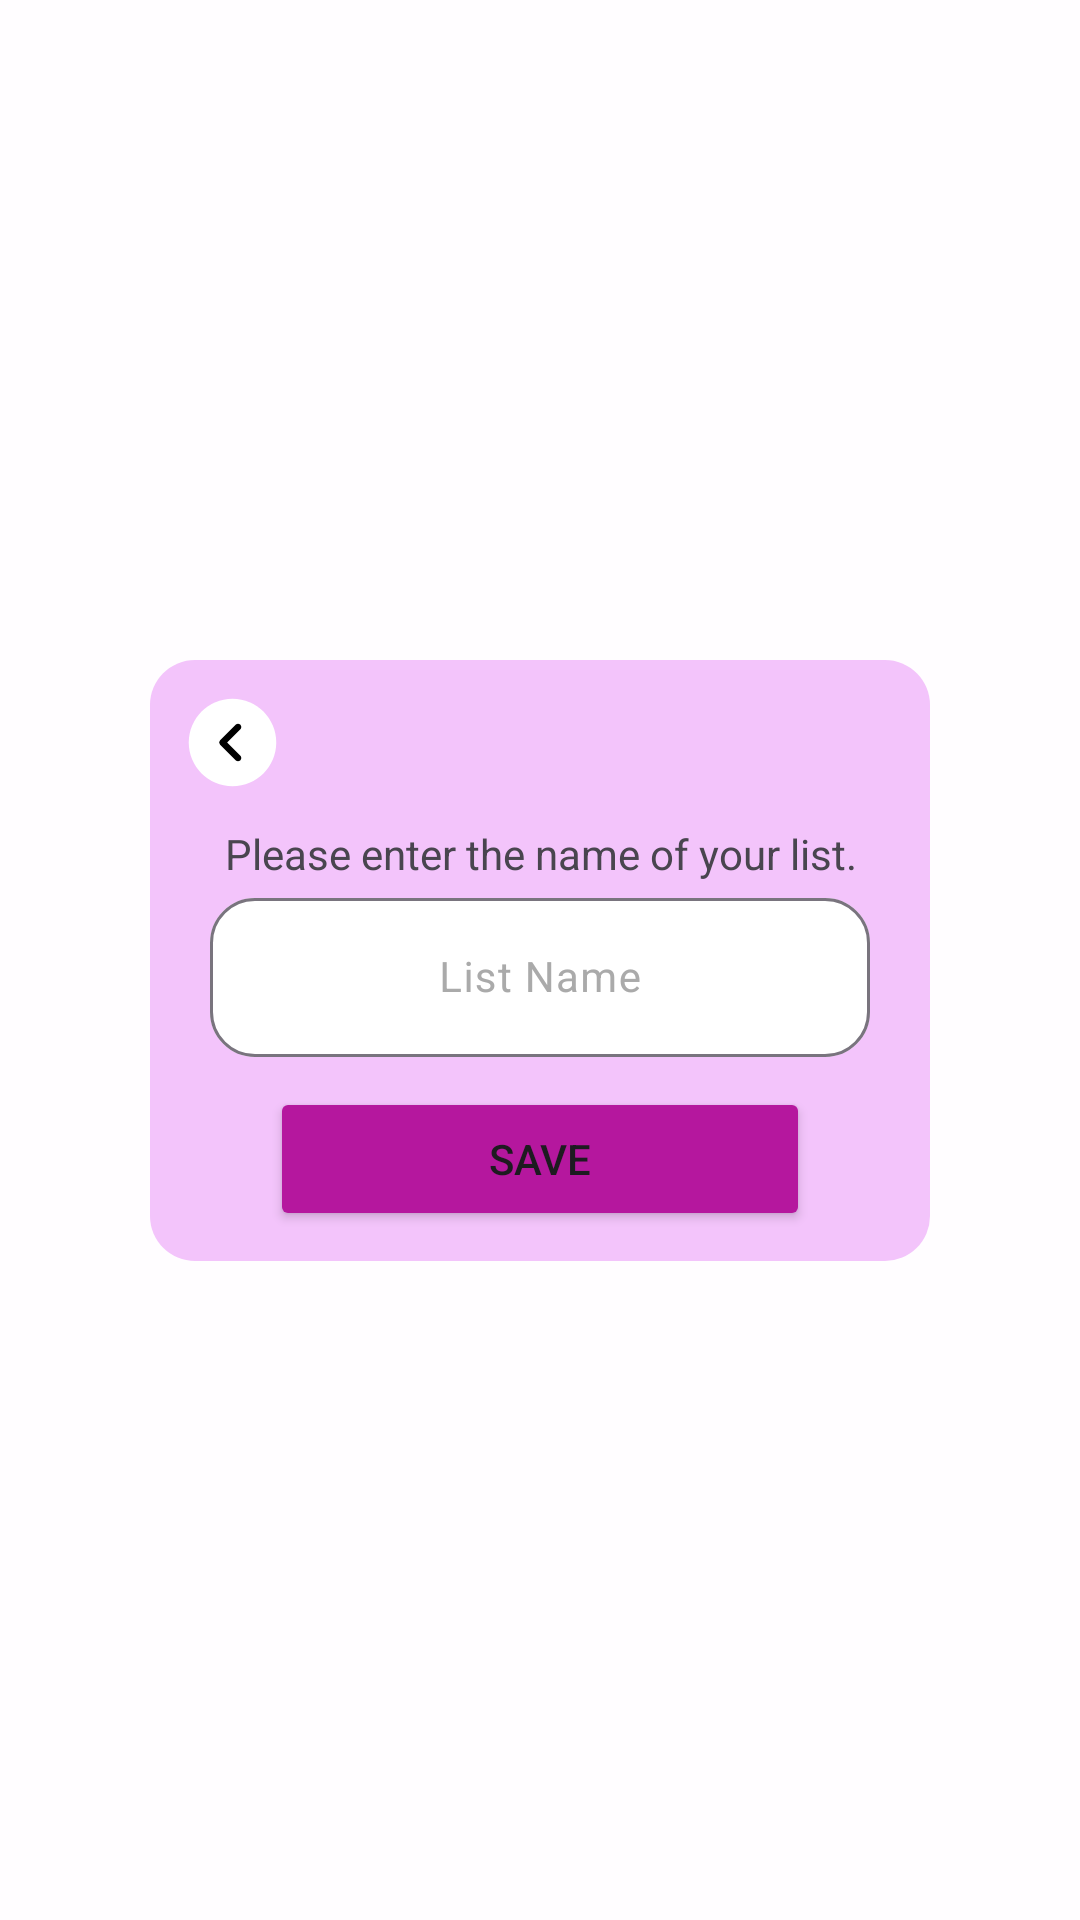

Named icons in this screenshot (1080 x 1920) and their centers, (x,y):
left click arrow: (232,742)
